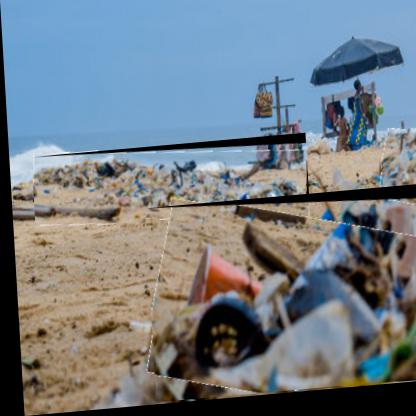Garbage: (143, 191, 416, 407), (31, 139, 309, 233), (378, 135, 416, 202)
